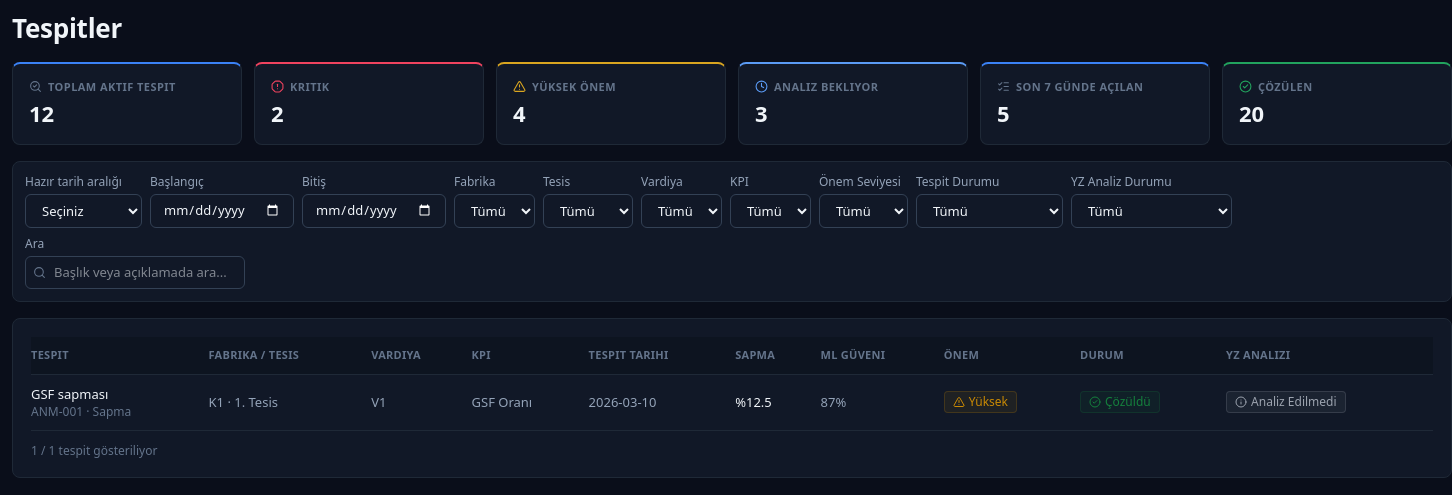
Scenario: AnomaliesPage — filter integration › shows a clear-filters button with a count once a filter or search is active, and clears both on click
Expected: the text "GSF sapması" is shown, x1=31 y1=385 x2=108 y2=403
Expected: the button "Filtreleri temizle" is not shown
Type "GSF" into the field with placeholder "Başlık veya açıklamada ara..." at (135,272), box x1=25 y1=256 x2=245 y2=289
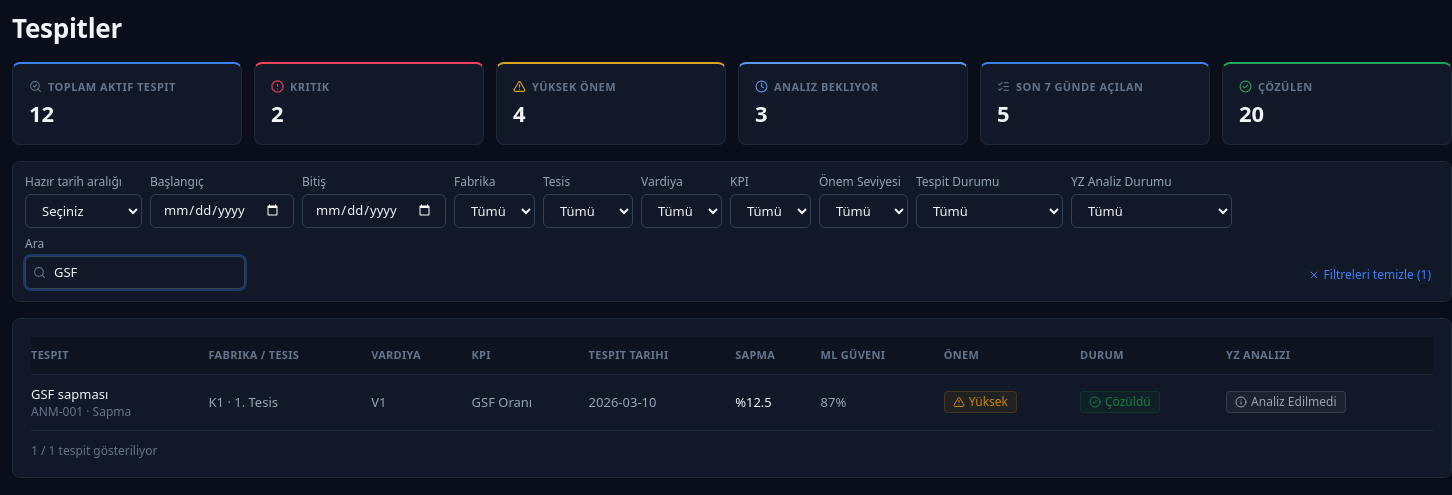
Click the button "Filtreleri temizle (1)" at (1369,275), box x1=1300 y1=261 x2=1439 y2=289
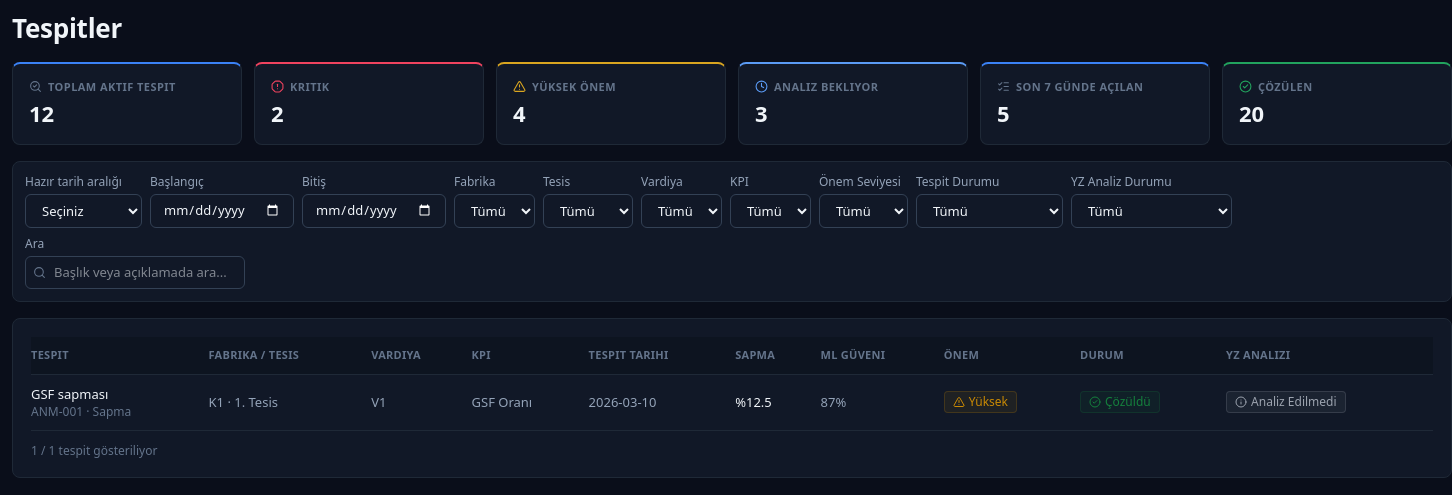
Expected: the field with placeholder "Başlık veya açıklamada ara..." is empty, x1=25 y1=256 x2=245 y2=289
Expected: the button "Filtreleri temizle" is gone
